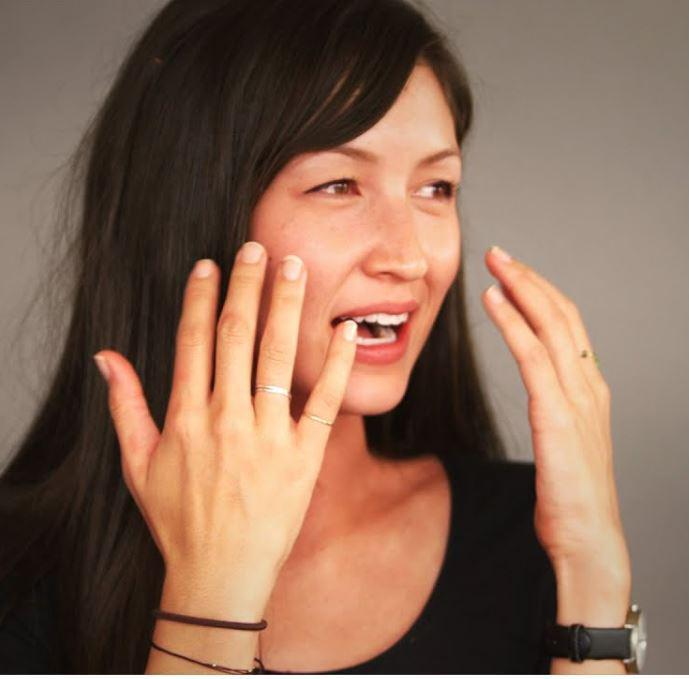Drunk: (258, 66, 461, 407)
